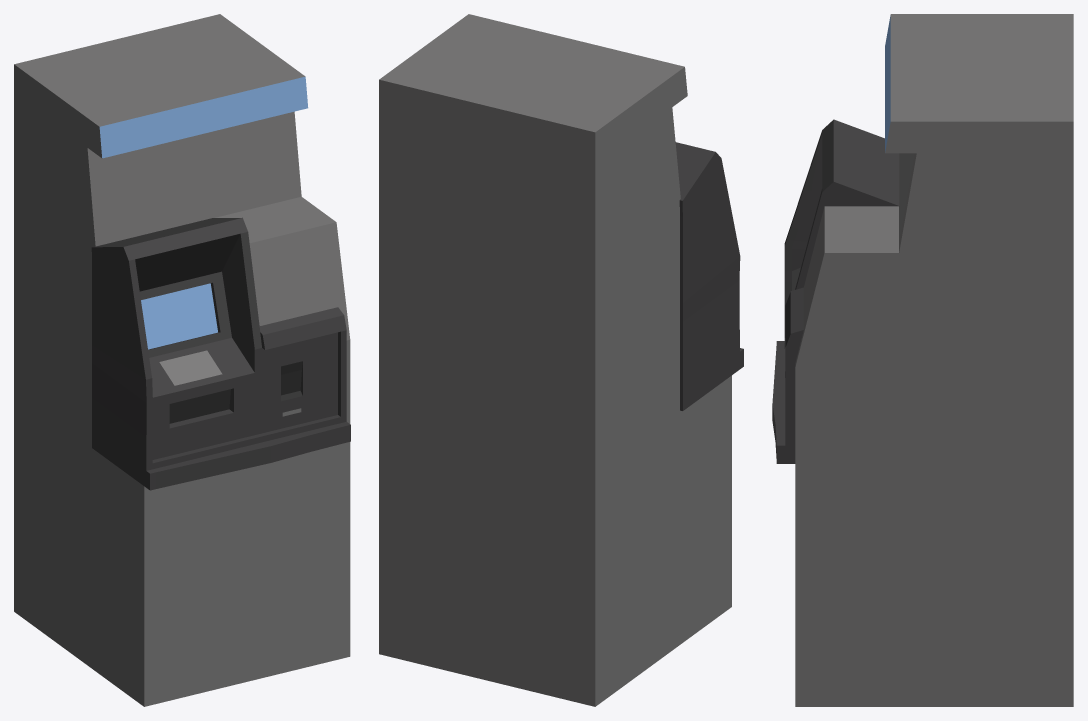
Rendered from ATM.fbx.
The picture shows the model from 3 angles, left to right: view 1: azimuth 30°, elevation 25°; view 2: azimuth 150°, elevation 25°; view 3: azimuth 270°, elevation 25°; orthographic projection. The views are drawn at different scales.
Parts seen in each view (by area): view 1: defaultMaterial.002; view 2: defaultMaterial.002; view 3: defaultMaterial.002.
Part boxes in pixels (box(x1,y1,x2,y2)): defaultMaterial.002: box(14, 14, 350, 706); defaultMaterial.002: box(379, 14, 743, 706); defaultMaterial.002: box(772, 14, 1073, 706).
Bounding box in the file's own units: 29.17 × 72.94 × 33.99.
Materials: 1 (1 with a texture image).
